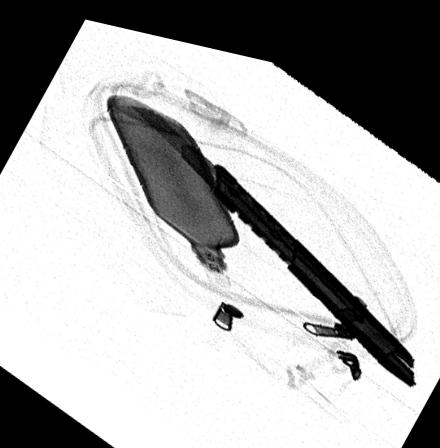Knife: (127, 100, 416, 369)
